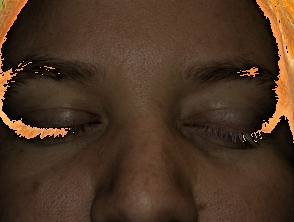vitiligo: (196, 114, 271, 156)
